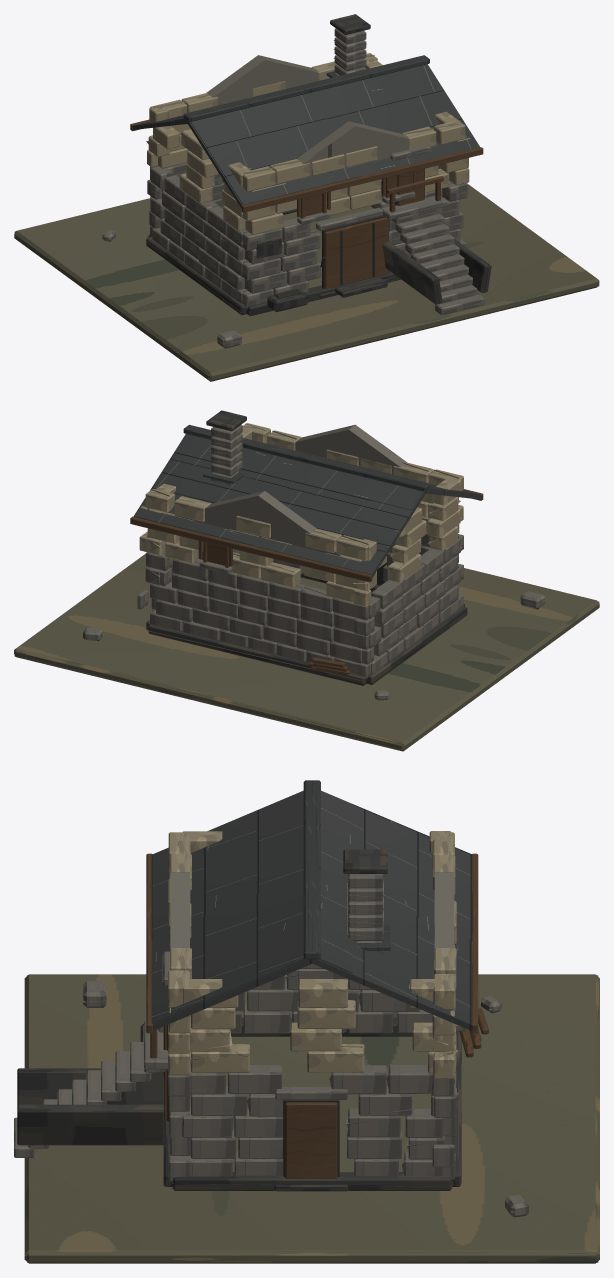
File: barrosan_house_gold_01.glb
3 views of the same model, one above another, from view 1: azimuth 30°, elevation 25°; view 2: azimuth 150°, elevation 25°; view 3: azimuth 270°, elevation 25° (orthographic). The views are drawn at different scales.
Visible parts, largest first — view 1: LOD0_Limewash_Consolidated, LOD0_Granite_Consolidated, LOD0_Slate_Consolidated, LOD0_Plaster_Consolidated, LOD0_Timber_Consolidated, LOD0_Foundation_Consolidated, LOD1_Granite_Consolidated, LOD0_Iron_Consolidated, LOD1_Foundation_Consolidated, LOD1_Slate_Consolidated; view 2: LOD0_Limewash_Consolidated, LOD0_Granite_Consolidated, LOD0_Plaster_Consolidated, LOD0_Slate_Consolidated, LOD2_LOD1_Slate_Consolidated, LOD1_Slate_Consolidated, LOD0_Foundation_Consolidated, LOD0_Timber_Consolidated, LOD1_Granite_Consolidated, LOD2_LOD1_Plaster_Consolidated, LOD1_Timber_Consolidated, LOD1_Limewash_Consolidated; view 3: LOD0_Limewash_Consolidated, LOD0_Granite_Consolidated, LOD0_Slate_Consolidated, LOD0_Plaster_Consolidated, LOD0_Foundation_Consolidated, LOD0_Timber_Consolidated, LOD1_Slate_Consolidated, LOD2_LOD1_Slate_Consolidated, LOD1_Granite_Consolidated, LOD1_Limewash_Consolidated, LOD2_LOD1_Granite_Consolidated, LOD1_Plaster_Consolidated (+3 smaller).
Part boxes in pixels (x1,y1,x2,y2): LOD0_Limewash_Consolidated: [14, 184, 599, 381]; LOD0_Granite_Consolidated: [102, 28, 484, 348]; LOD0_Slate_Consolidated: [133, 55, 479, 208]; LOD0_Plaster_Consolidated: [147, 53, 469, 234]; LOD0_Timber_Consolidated: [130, 119, 483, 288]; LOD0_Foundation_Consolidated: [146, 14, 491, 315]; LOD1_Granite_Consolidated: [102, 33, 484, 348]; LOD0_Iron_Consolidated: [274, 169, 424, 298]; LOD1_Foundation_Consolidated: [149, 20, 490, 315]; LOD1_Slate_Consolidated: [134, 59, 478, 207]; LOD0_Limewash_Consolidated: [14, 553, 599, 751]; LOD0_Granite_Consolidated: [83, 424, 544, 700]; LOD0_Plaster_Consolidated: [139, 423, 463, 606]; LOD0_Slate_Consolidated: [133, 424, 480, 577]; LOD2_LOD1_Slate_Consolidated: [145, 463, 410, 574]; LOD1_Slate_Consolidated: [135, 433, 479, 574]; LOD0_Foundation_Consolidated: [146, 410, 467, 685]; LOD0_Timber_Consolidated: [130, 489, 483, 675]; LOD1_Granite_Consolidated: [83, 425, 544, 700]; LOD2_LOD1_Plaster_Consolidated: [140, 423, 461, 591]; LOD1_Timber_Consolidated: [131, 495, 481, 675]; LOD1_Limewash_Consolidated: [14, 601, 599, 750]; LOD0_Limewash_Consolidated: [24, 974, 599, 1263]; LOD0_Granite_Consolidated: [14, 872, 528, 1217]; LOD0_Slate_Consolidated: [151, 780, 472, 1030]; LOD0_Plaster_Consolidated: [168, 831, 456, 1078]; LOD0_Foundation_Consolidated: [17, 849, 460, 1191]; LOD0_Timber_Consolidated: [146, 853, 488, 1178]; LOD1_Slate_Consolidated: [153, 832, 471, 1030]; LOD2_LOD1_Slate_Consolidated: [352, 805, 471, 1010]; LOD1_Granite_Consolidated: [14, 872, 528, 1216]; LOD1_Limewash_Consolidated: [25, 975, 598, 1262]; LOD2_LOD1_Granite_Consolidated: [83, 879, 527, 1215]; LOD1_Plaster_Consolidated: [168, 831, 455, 1078].
Size of what is drawn, in the model's own units: 15.5 by 8.07 by 13.75.
Materials: 7 (7 with a texture image).
